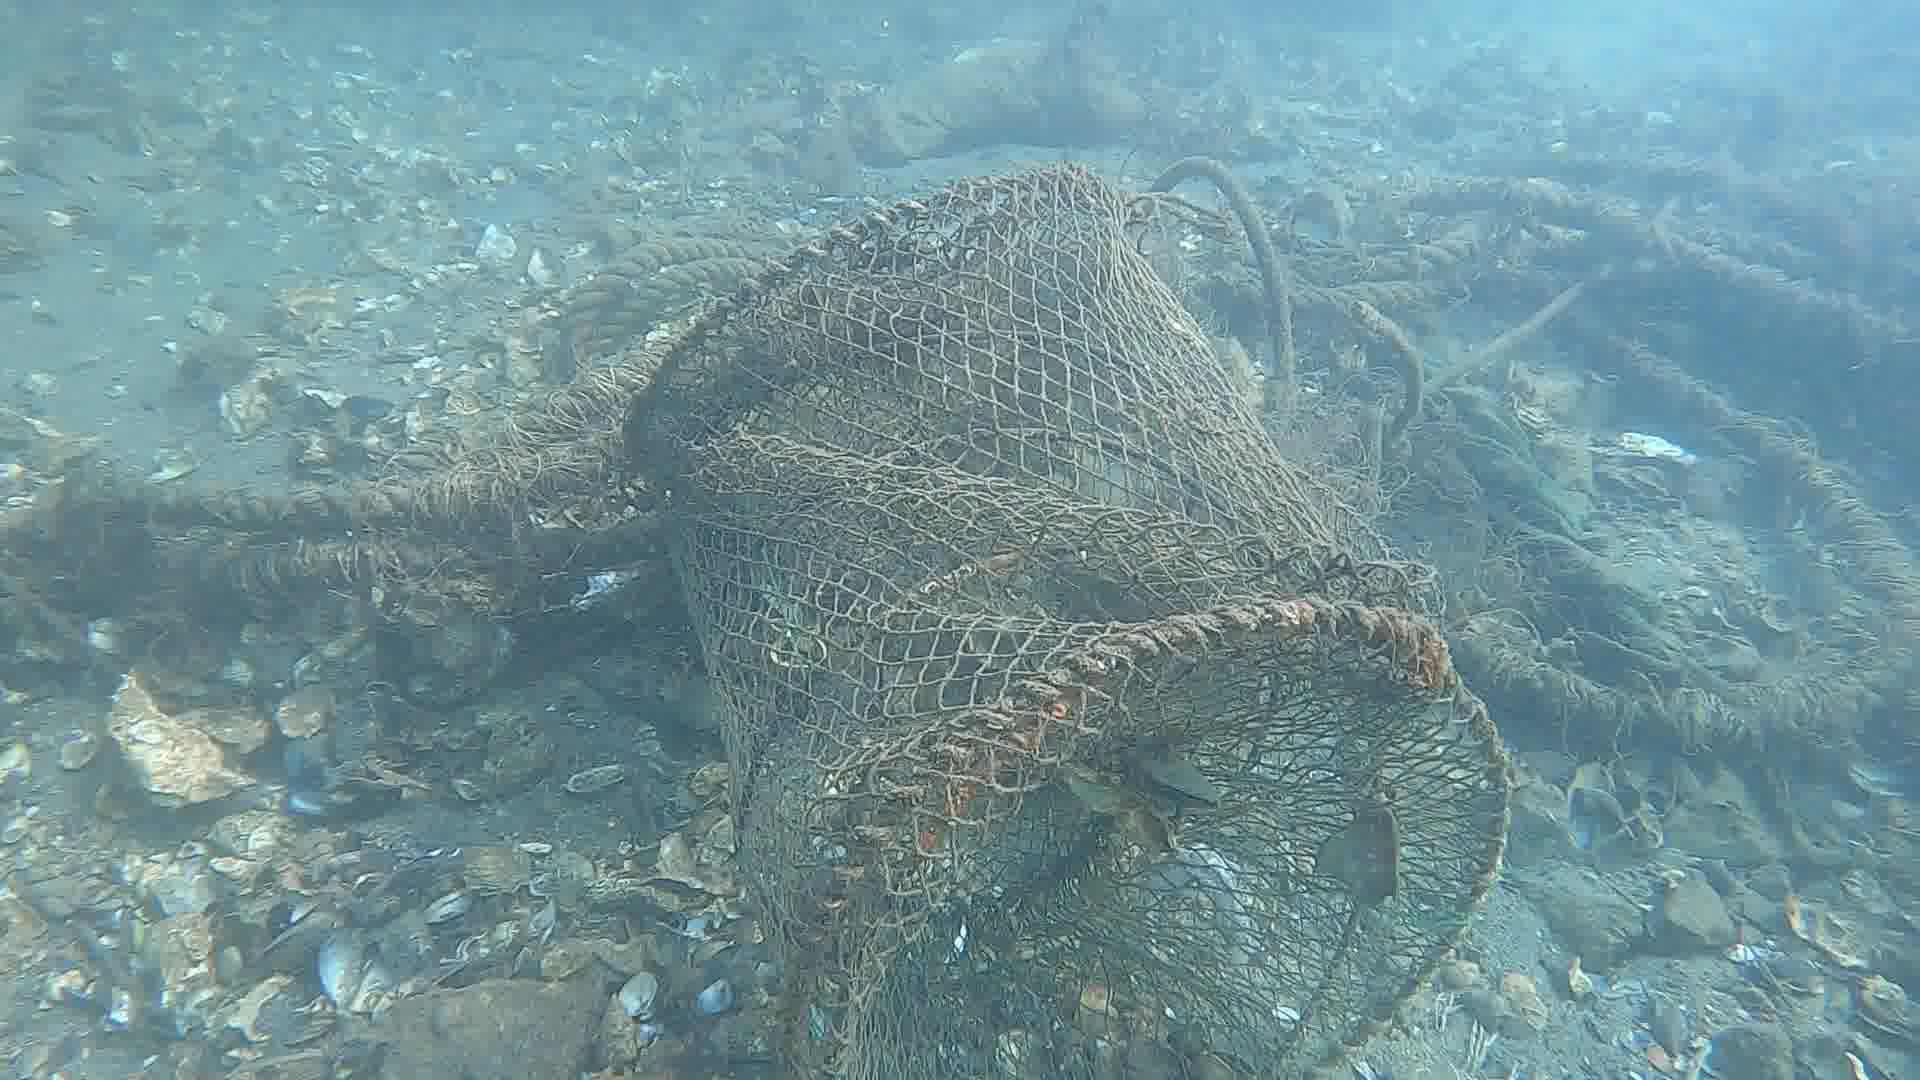bundle of ropes: (560, 233, 760, 349), (1287, 220, 1487, 311)
rope: (146, 471, 404, 531)
spring fish trap: (615, 165, 1515, 1080)
